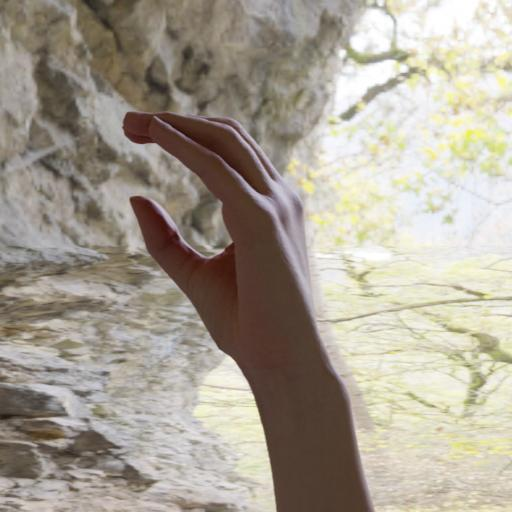C: (116, 104, 327, 396)
